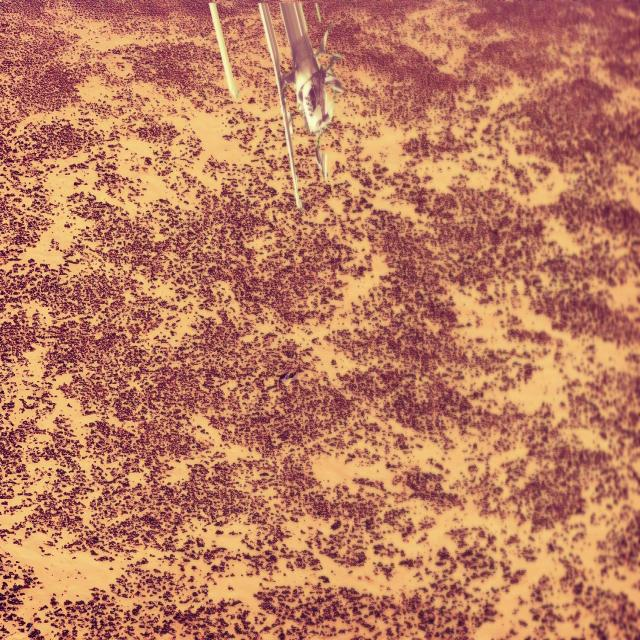airplane: (208, 0, 344, 211)
